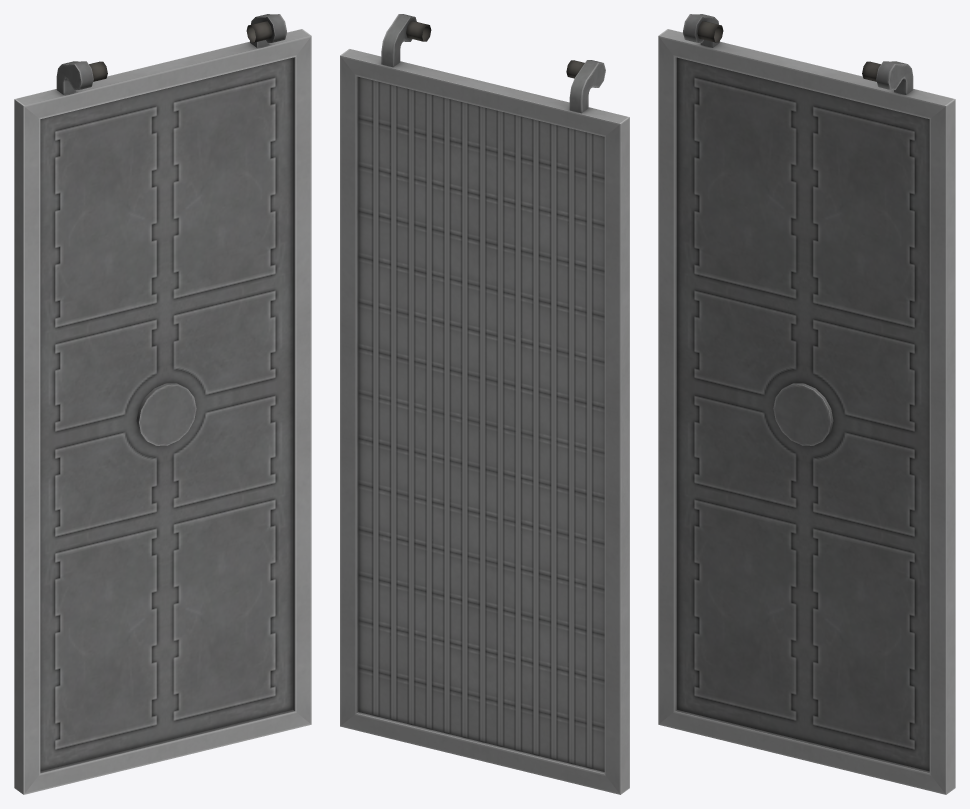
File: radarbottom.obj
3 views of the same model, side by side, from view 1: azimuth 30°, elevation 25°; view 2: azimuth 150°, elevation 25°; view 3: azimuth 330°, elevation 25° (orthographic). The views are drawn at different scales.
Visible parts, largest first — view 1: 1; view 2: 1; view 3: 1.
Boxes of the visible parts, <box> form: 1: <box>14,14,311,794</box>; 1: <box>340,14,629,794</box>; 1: <box>658,14,955,794</box>.
Size of the model in its own units: 0.875 by 2.11 by 0.1375.
Materials: 1 (1 with a texture image).
